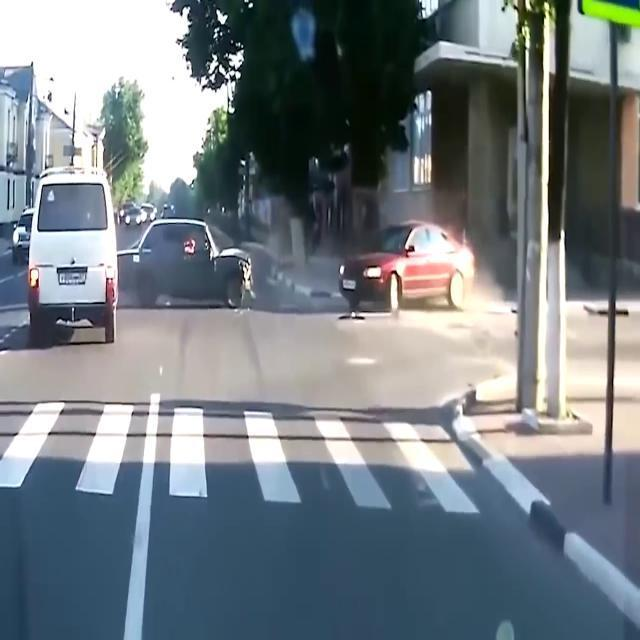accident: (115, 217, 478, 323)
non-accident: (10, 165, 120, 345), (120, 203, 156, 229)
